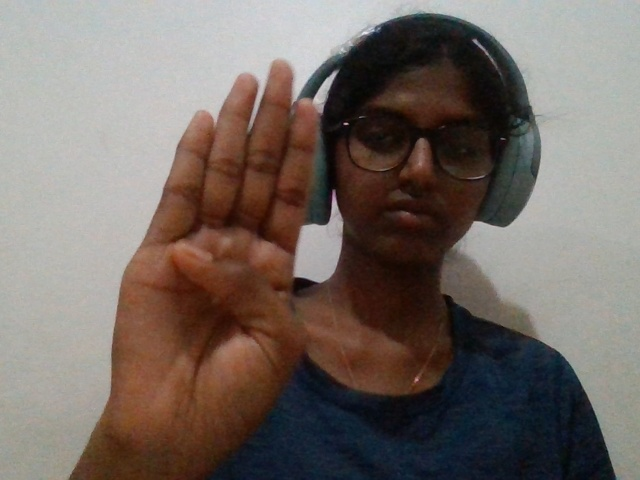B: (55, 45, 326, 471)
